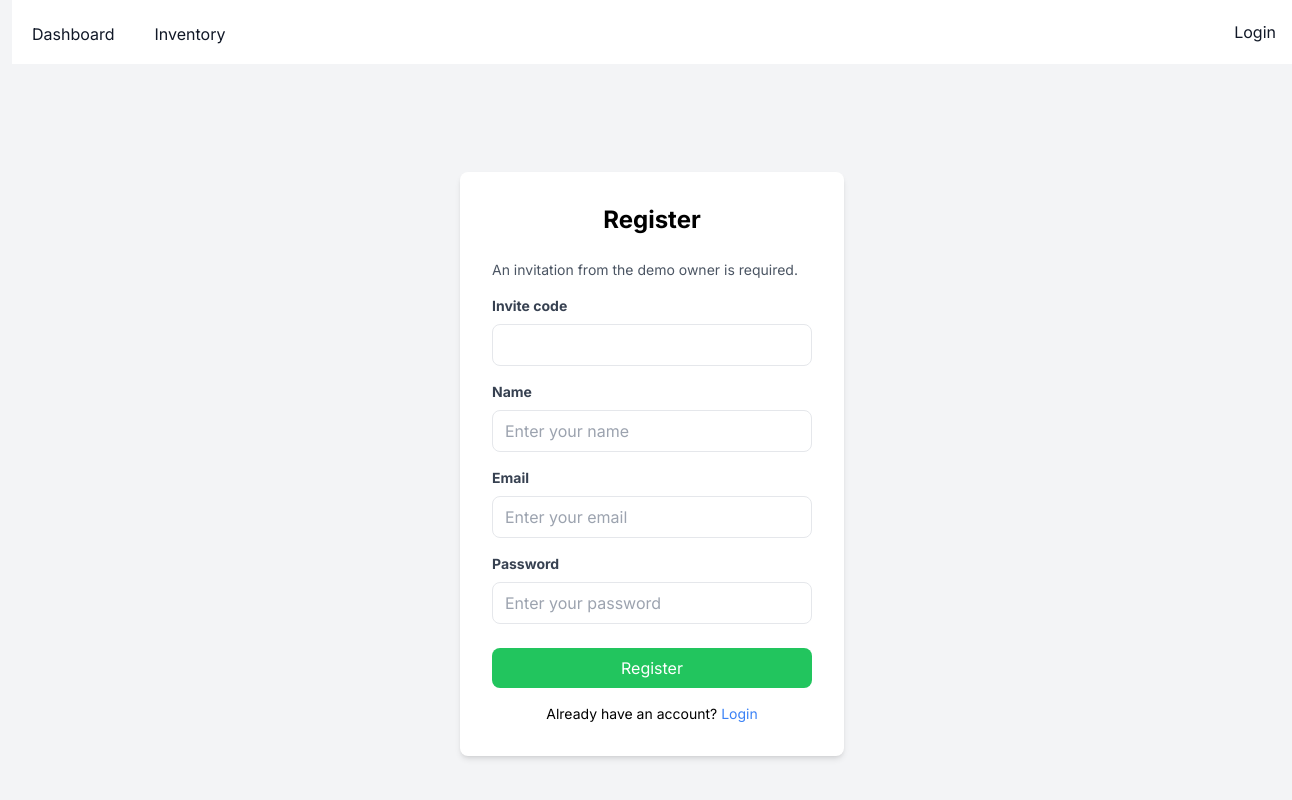
Test: register › a failed registration shows the server error and stays on the register page
Type "test-invitation" into the password field labelled "Invite code" at (652, 345), box [492,324,812,366]
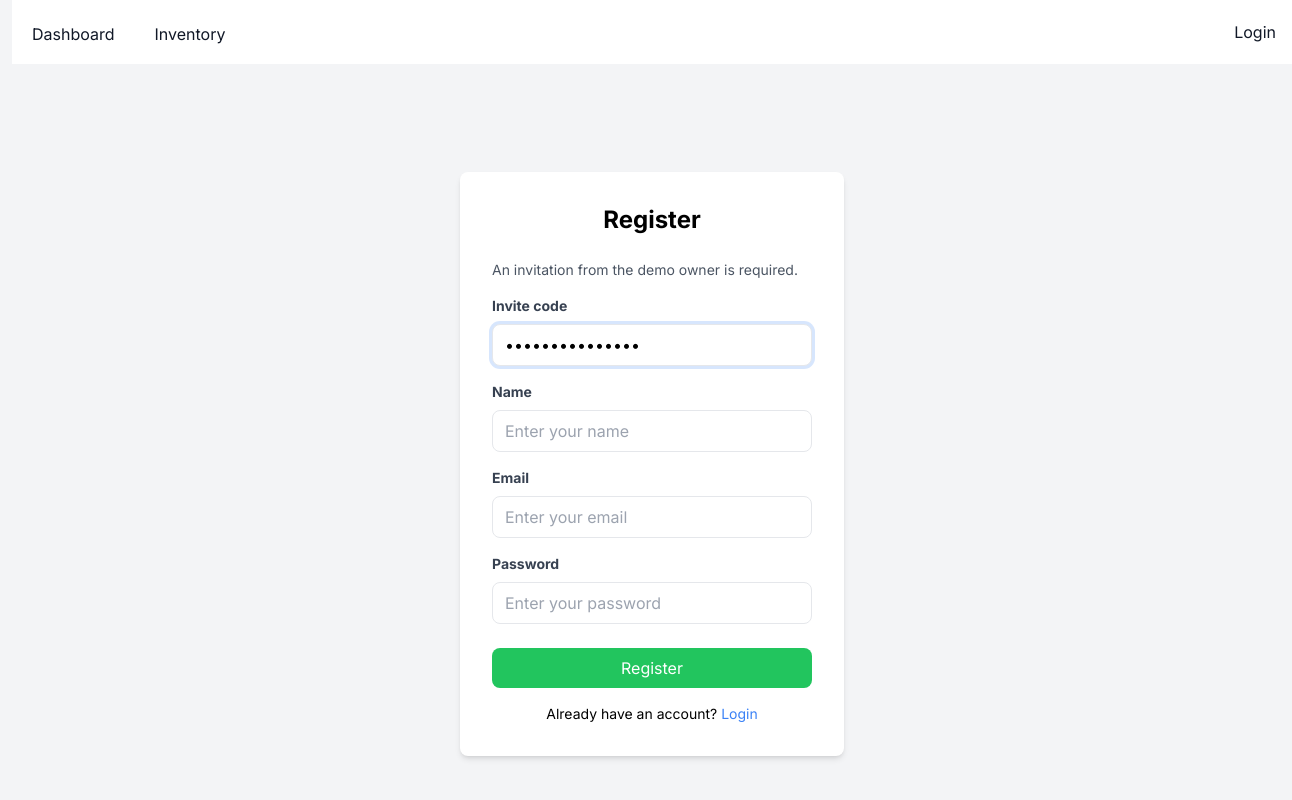
Type "Test User" into the field with placeholder "Enter your name" at (652, 431), box [492,410,812,452]
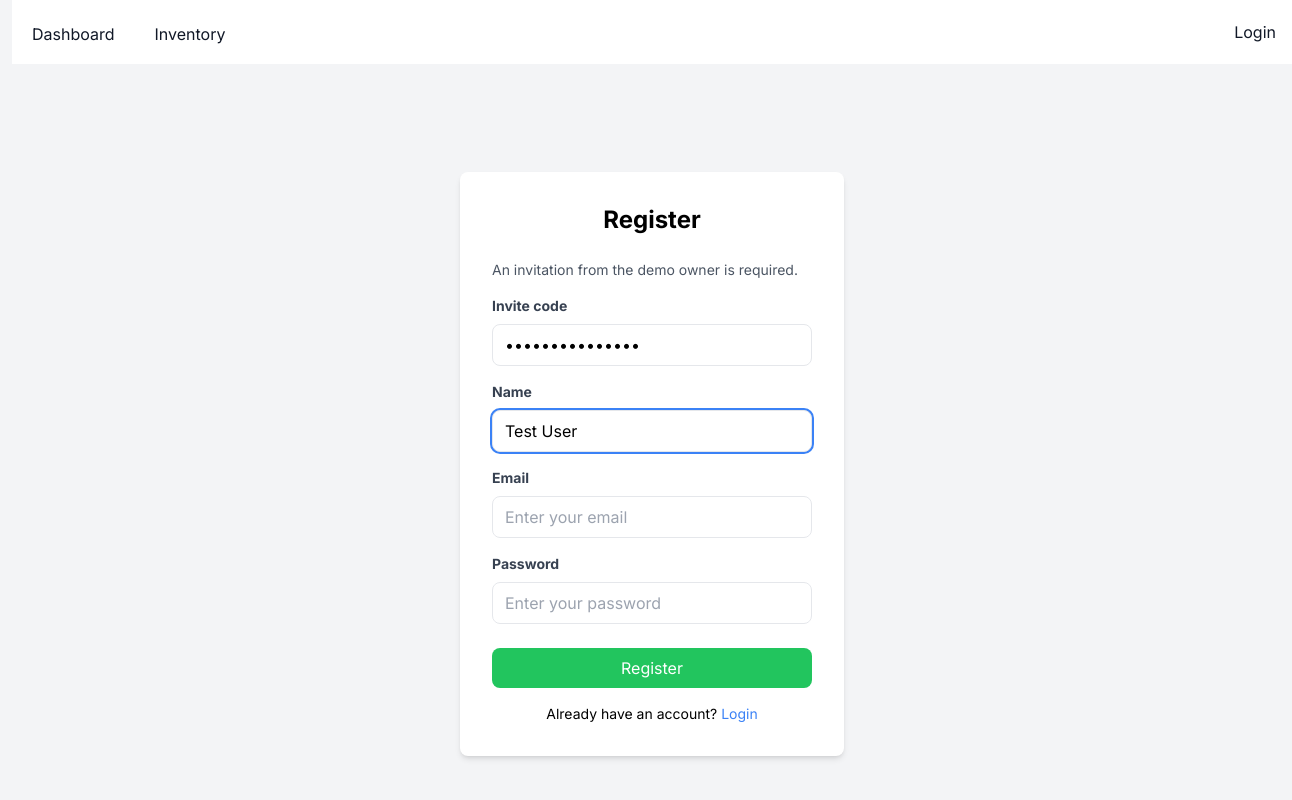
Type "test.user@example.com" into the field with placeholder "Enter your email" at (652, 517), box [492,496,812,538]
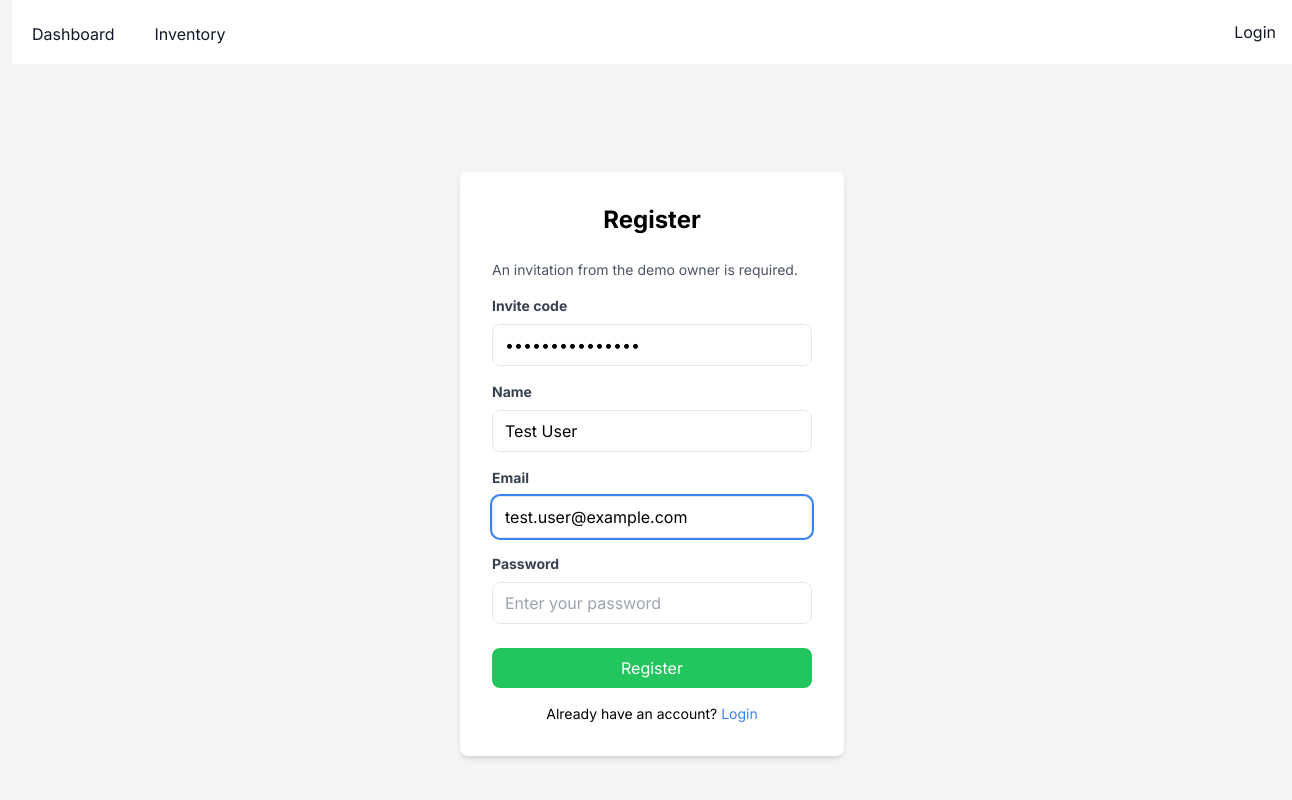
Type "not-a-real-password" into the password field with placeholder "Enter your password" at (652, 603), box [492,582,812,624]
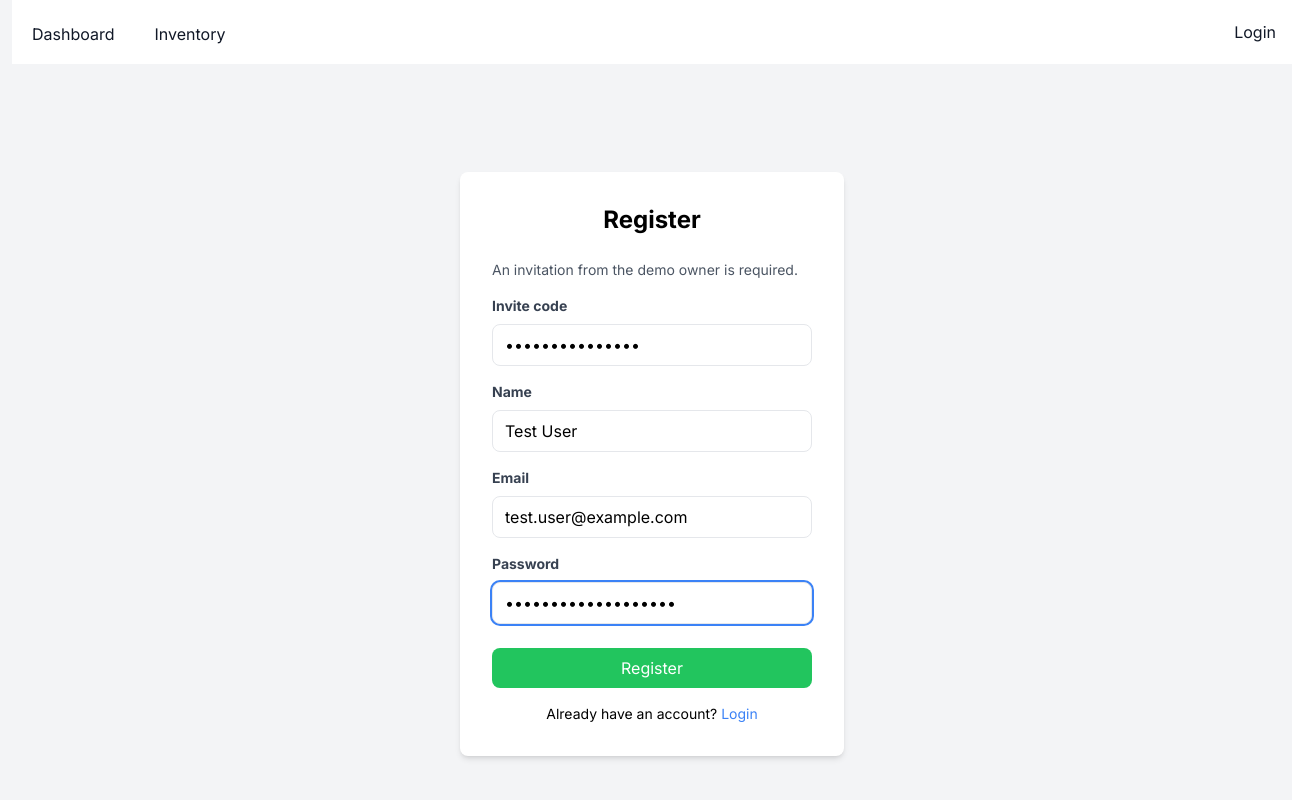
Click the button "Register" at (652, 668), box [492,648,812,688]
(page scrolled)
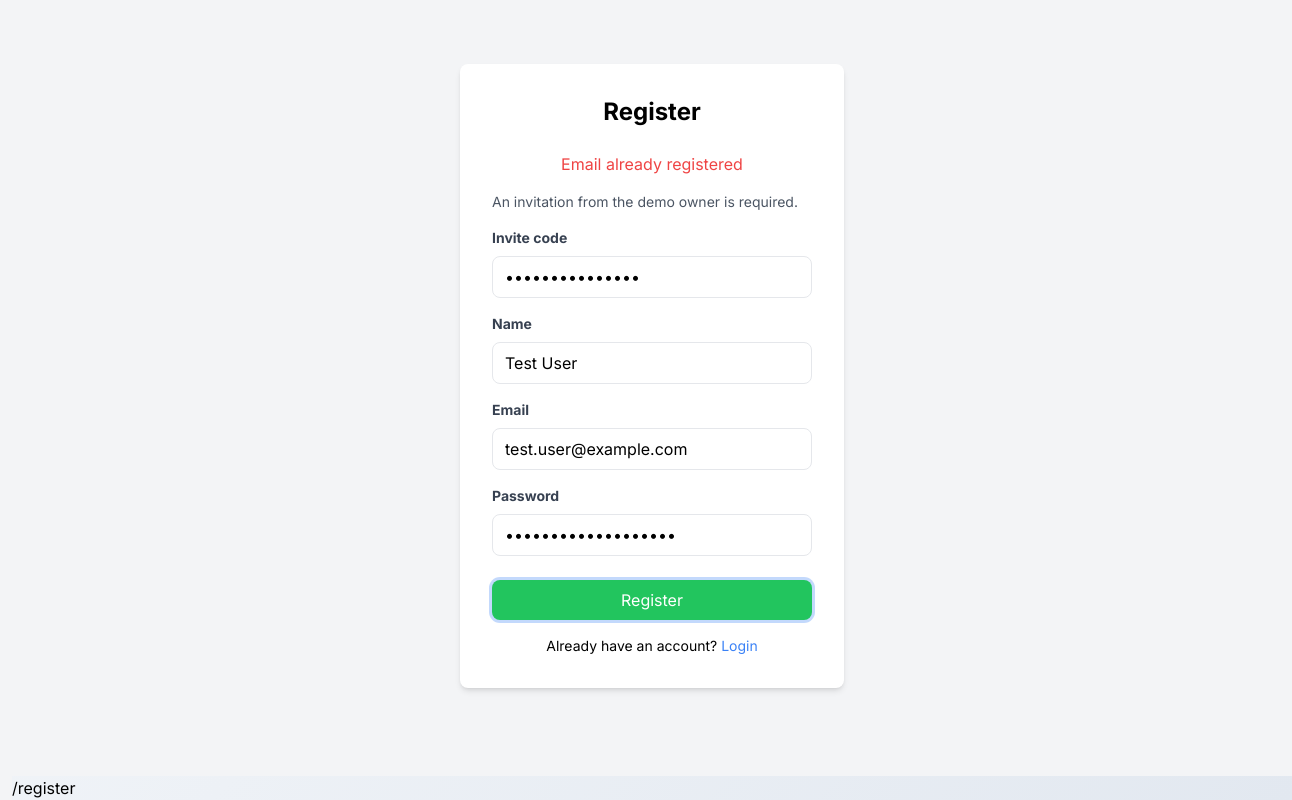
Expected: the text with test id "location" reads "/register", [12,778,75,798]
Expected: the text "Email already registered" is shown, [561,154,743,174]
